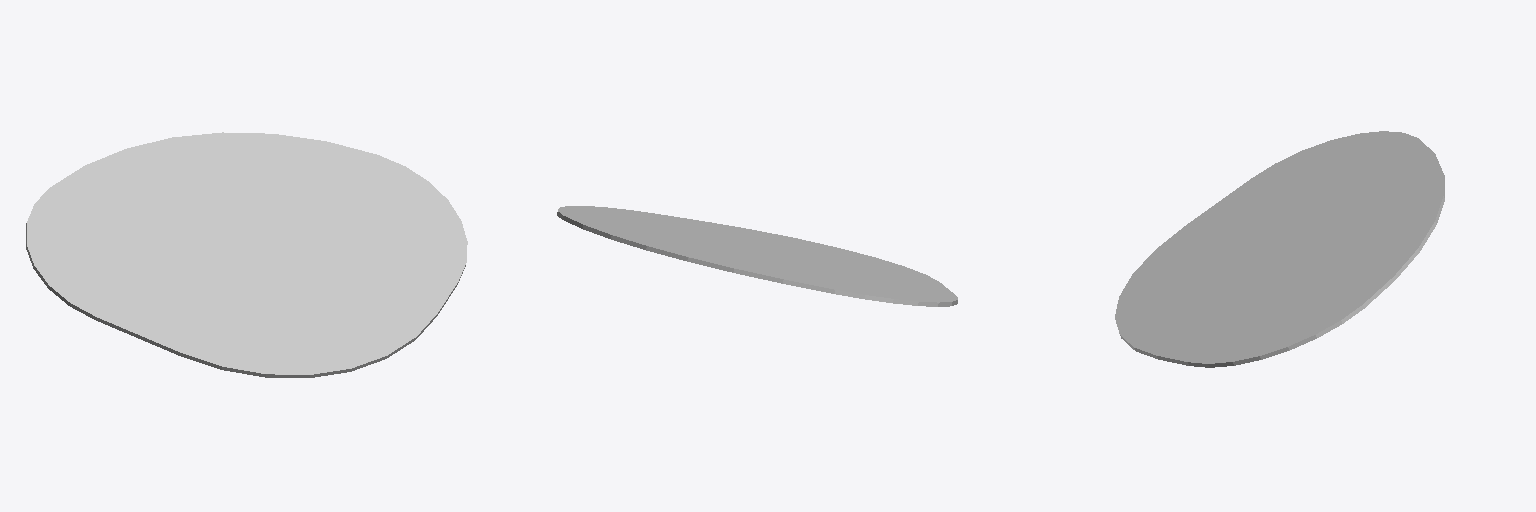
The picture shows the model from 3 angles: view 1: azimuth 30°, elevation 25°; view 2: azimuth 150°, elevation 25°; view 3: azimuth 270°, elevation 25°; orthographic projection.
Parts seen in each view (by area): view 1: 设计2\实体; view 2: 设计2\实体; view 3: 设计2\实体.
Part boxes in pixels (left/top/right/bottom): 设计2\实体: left=26, top=132, right=467, bottom=377; 设计2\实体: left=557, top=206, right=957, bottom=306; 设计2\实体: left=1115, top=131, right=1444, bottom=367.
Bounding box in the file's own units: 711 × 205 × 518.